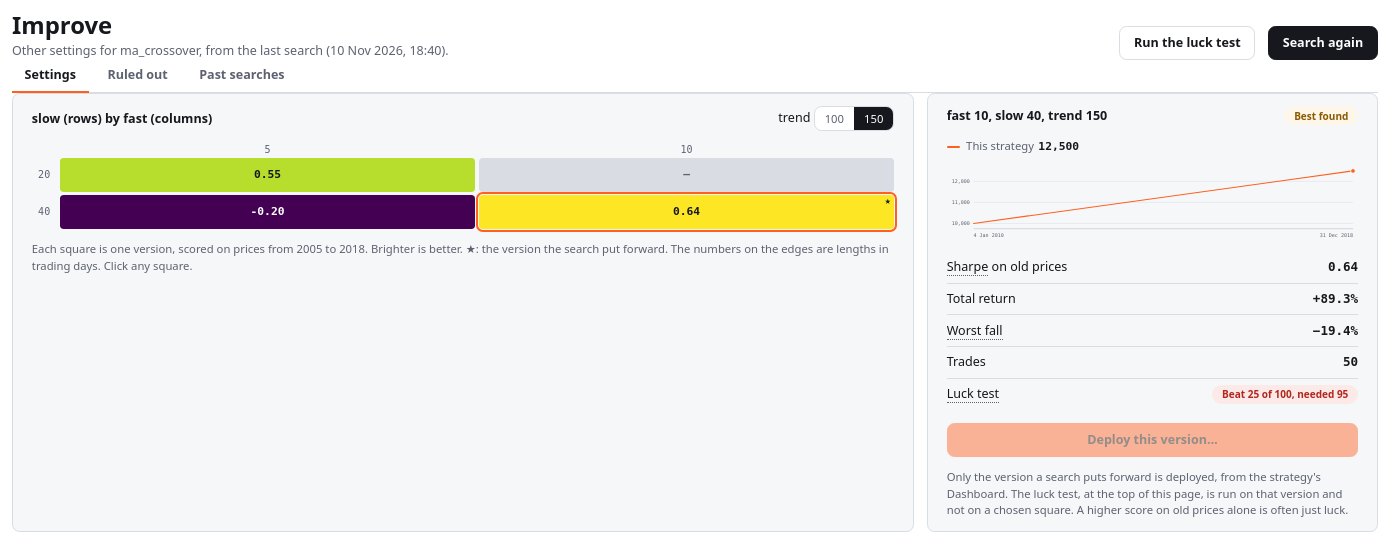
Test case: Improve › shows another slice when its value is pressed
The width and height of the screenshot is (1390, 549).
Expected: the text "Best found" is shown, [1284,106,1358,126]
Click the button "100": click(834, 119) [815,107,854,130]
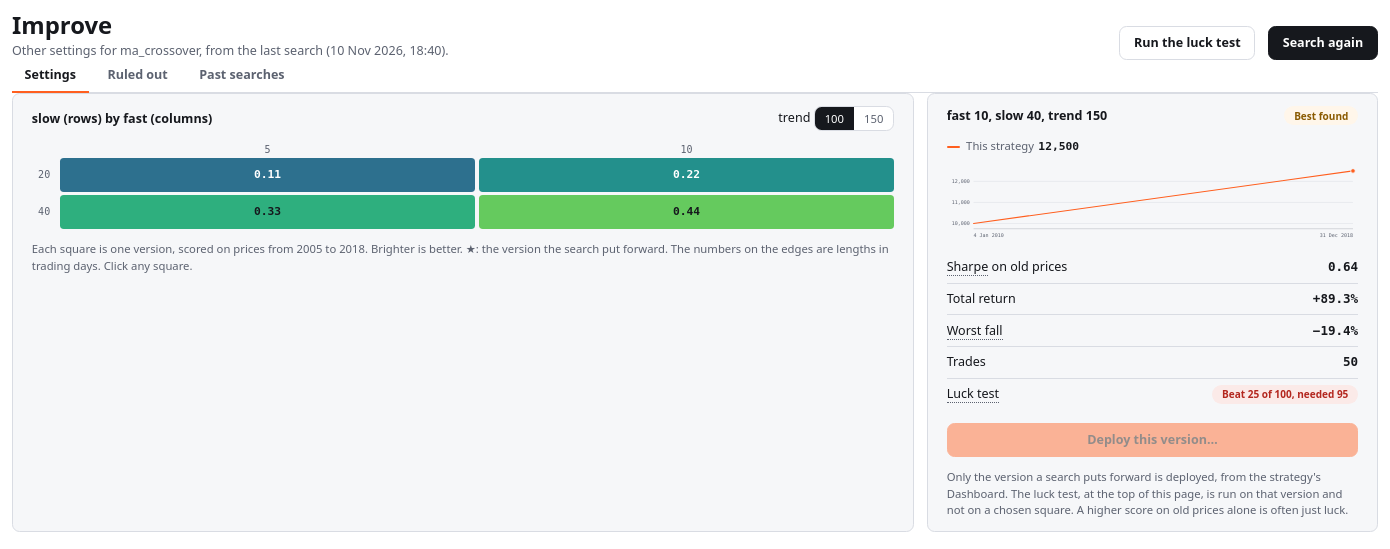
Now the button named "fast 5, slow 20, trend 100, score 0.11" is shown, box [60,158,476,192]
